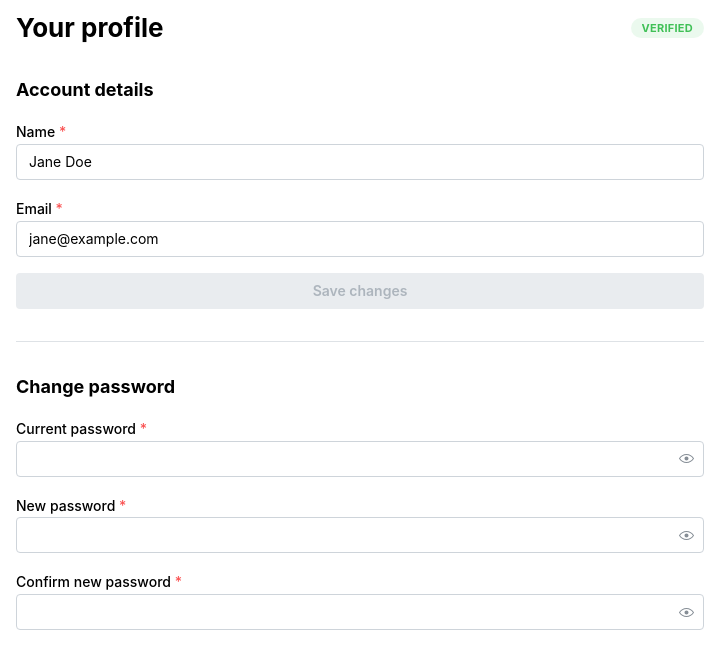
ProfilePage › surfaces ApiError messages from profile updates
Replace the text in the field labelled "Email *" with "taken@example.com" at (360, 239), box [16,221,704,257]
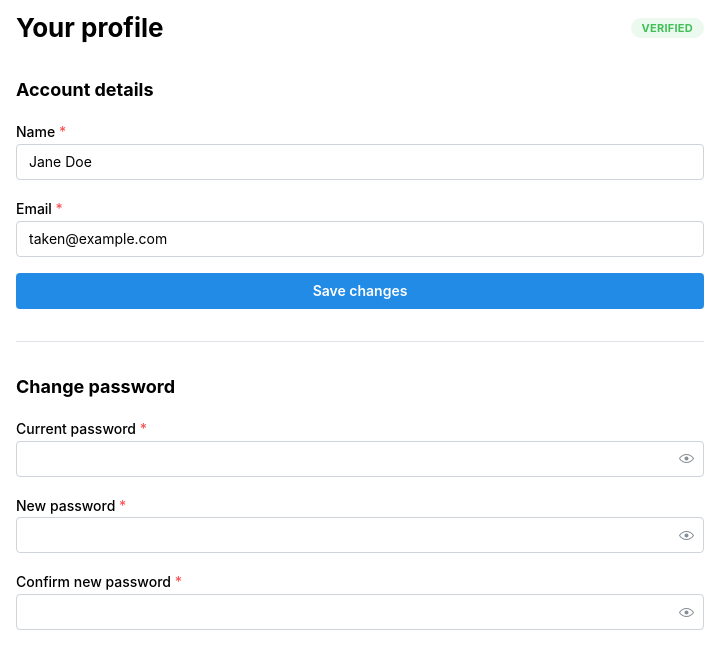
Submit the form "Account details Name * Email * Save changes", box [16,77,704,309]
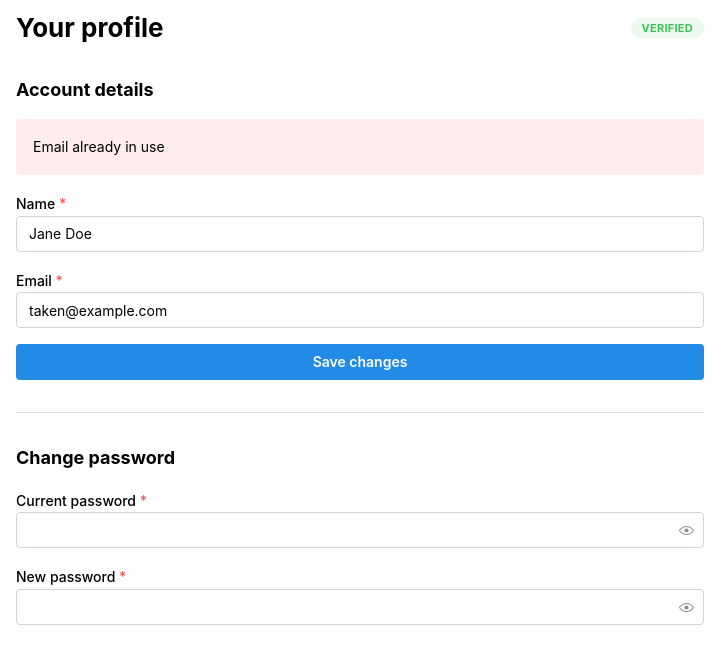
Now the text "Email already in use" is shown, box [33,138,165,155]
